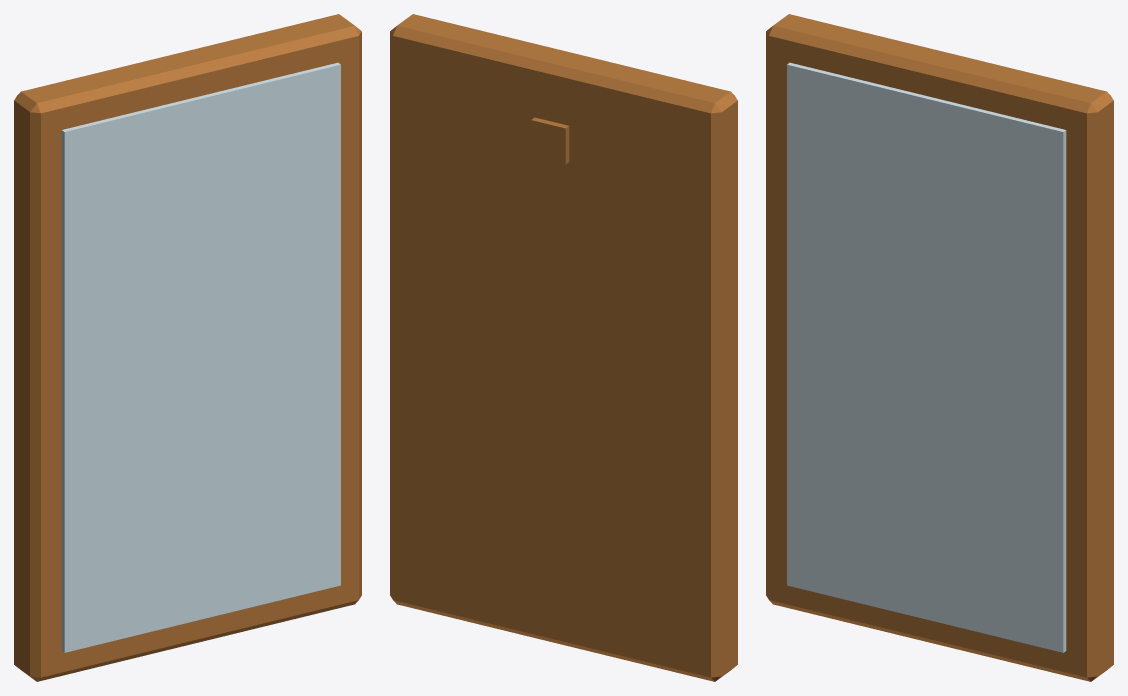
The model's file is FUR_Mirror_Frac.fbx.
3 renders of one model, left to right at view 1: azimuth 30°, elevation 25°; view 2: azimuth 150°, elevation 25°; view 3: azimuth 330°, elevation 25°, orthographic.
Parts seen in each view (by area): view 1: FUR_Mirror_Frac_1, FUR_Mirror_Frac_4, FUR_Mirror_Frac_3, FUR_Mirror_Frac_2, FUR_Mirror_Frac_5; view 2: FUR_Mirror_Frac_1, FUR_Mirror_Frac_4, FUR_Mirror_Frac_5, FUR_Mirror_Frac_3, FUR_Mirror_Frac_2; view 3: FUR_Mirror_Frac_1, FUR_Mirror_Frac_3, FUR_Mirror_Frac_2, FUR_Mirror_Frac_4, FUR_Mirror_Frac_5.
Part boxes in pixels (x1,y1,x2,y2): FUR_Mirror_Frac_1: [105, 14, 361, 285]; FUR_Mirror_Frac_4: [14, 71, 195, 451]; FUR_Mirror_Frac_3: [188, 274, 361, 619]; FUR_Mirror_Frac_2: [71, 311, 292, 645]; FUR_Mirror_Frac_5: [14, 423, 186, 681]; FUR_Mirror_Frac_1: [390, 14, 649, 333]; FUR_Mirror_Frac_4: [552, 72, 737, 459]; FUR_Mirror_Frac_5: [536, 405, 737, 681]; FUR_Mirror_Frac_3: [390, 311, 546, 618]; FUR_Mirror_Frac_2: [455, 317, 650, 639]; FUR_Mirror_Frac_1: [852, 34, 1113, 379]; FUR_Mirror_Frac_3: [910, 279, 1113, 681]; FUR_Mirror_Frac_2: [793, 308, 1027, 666]; FUR_Mirror_Frac_4: [766, 14, 918, 370]; FUR_Mirror_Frac_5: [766, 358, 922, 640].
Bounding box in the file's own units: 2.4 × 4 × 0.38.
